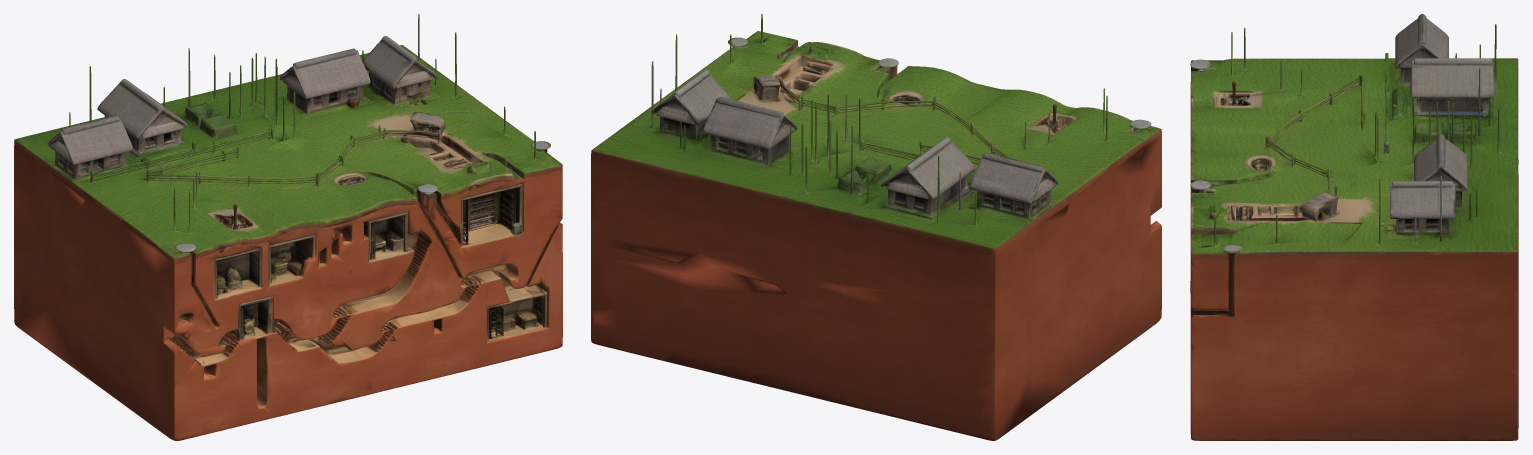
File: diadaolongphuoc-v1.glb
The picture shows the model from 3 angles, left to right: view 1: azimuth 30°, elevation 25°; view 2: azimuth 150°, elevation 25°; view 3: azimuth 270°, elevation 25°; orthographic projection. The views are drawn at different scales.
Visible parts, largest first — view 1: node_0; view 2: node_0; view 3: node_0.
Part boxes in pixels (x1,y1,x2,y2): node_0: (14,14,562,440); node_0: (591,14,1161,440); node_0: (1190,14,1518,440).
Size of the model in its own units: 0.8841 by 0.5388 by 0.6213.
Materials: 1 (1 with a texture image).
